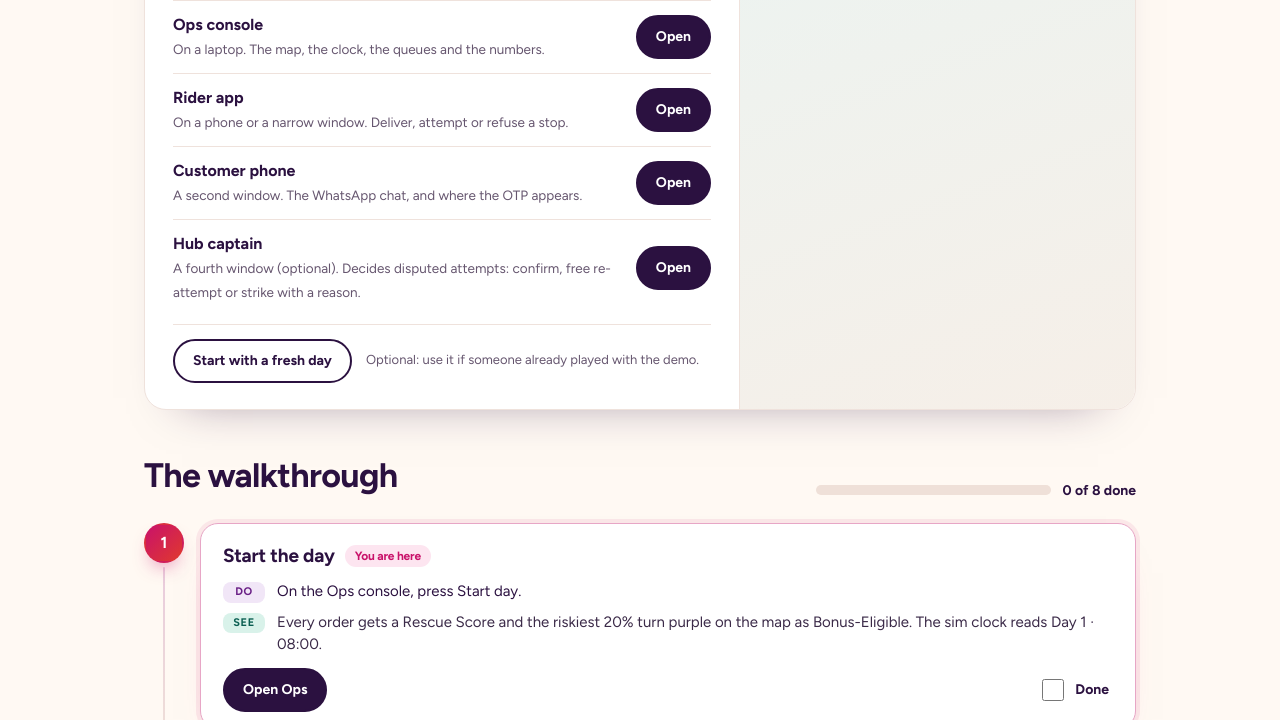
Test: Landing: one job, the demo › offers a fresh day only after a confirmation, and then clears the demo day
(page scrolled)
Click the button "Start with a fresh day" at (262, 361), box [173,339,352,383]
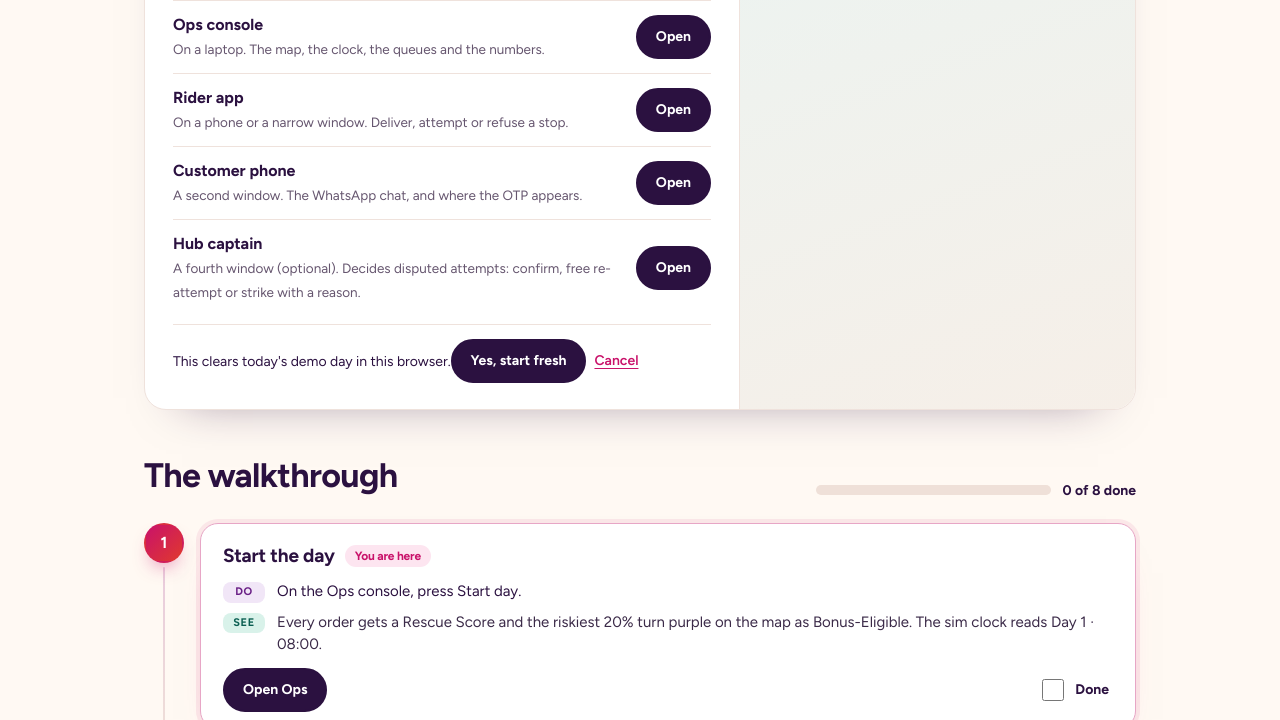
Click the button "Yes, start fresh" at (519, 361), box [451,339,586,383]
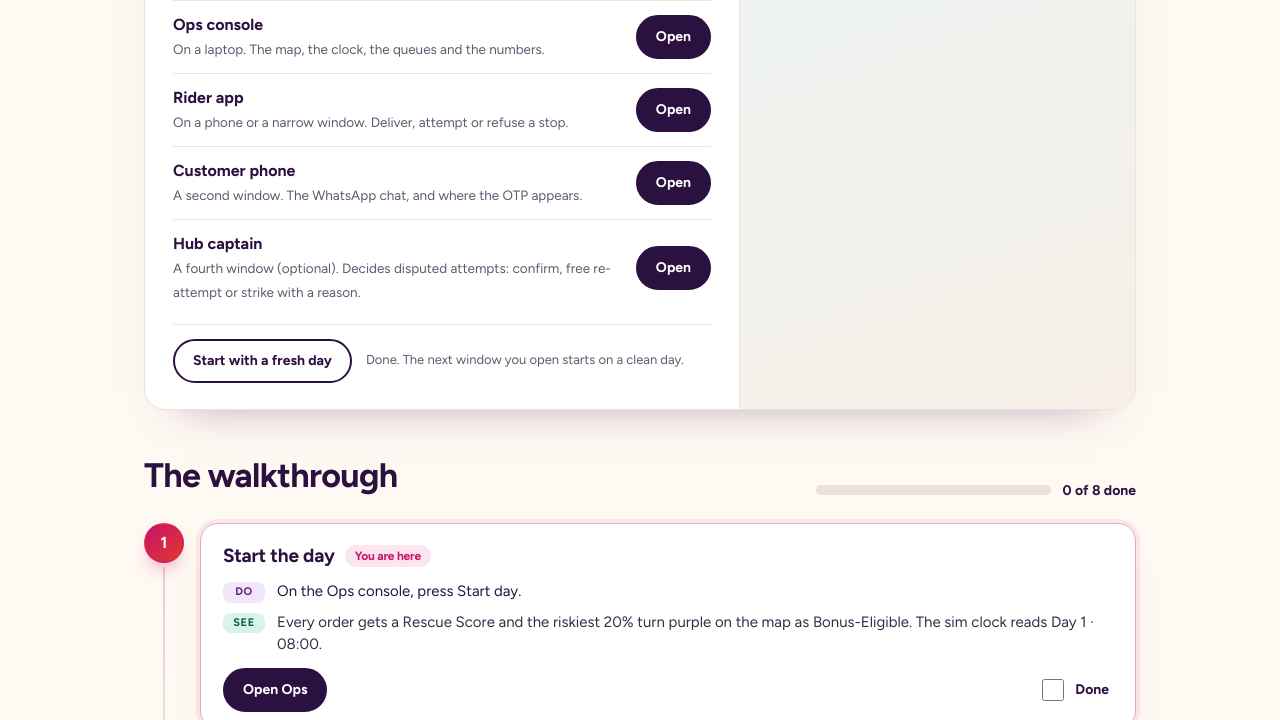
Now the text "Done. The next window you open starts on a clean day." is shown, box [366,352,684,370]
